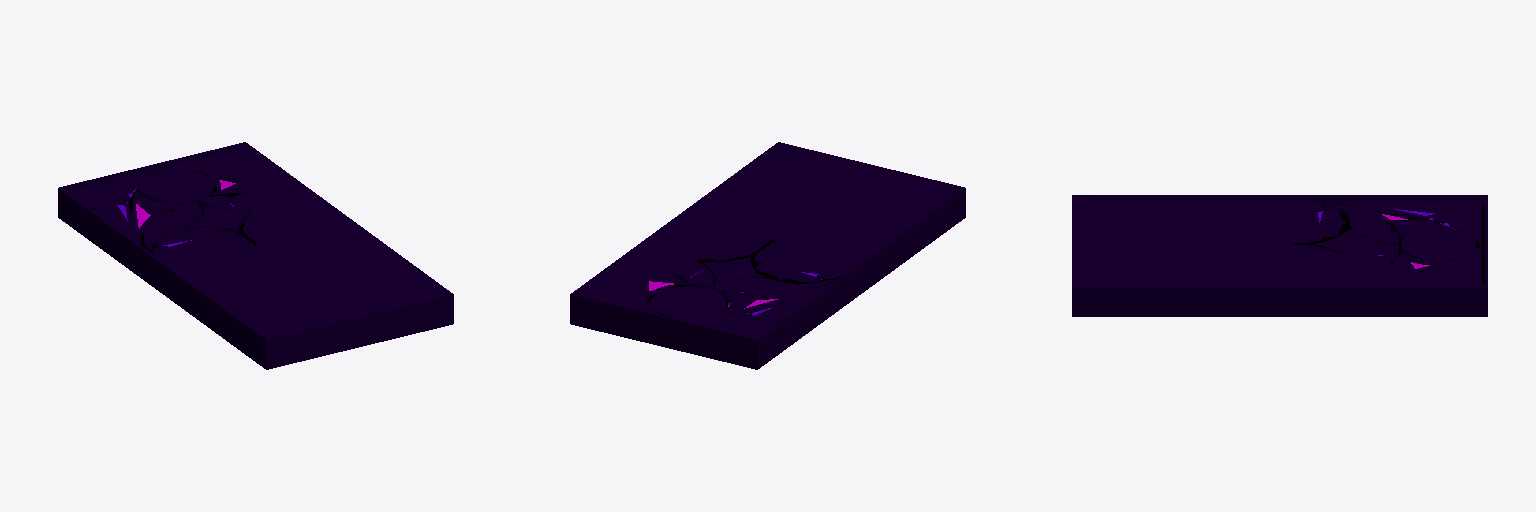
Rendered from gothicwindow.obj.
3 views of the same model, side by side, from view 1: azimuth 30°, elevation 25°; view 2: azimuth 150°, elevation 25°; view 3: azimuth 270°, elevation 25° (orthographic).
Visible parts, largest first — view 1: Curve.007_CUCurve.007; view 2: Curve.007_CUCurve.007; view 3: Curve.007_CUCurve.007.
Part boxes in pixels (bbox=[...]): Curve.007_CUCurve.007: bbox=[58, 142, 453, 369]; Curve.007_CUCurve.007: bbox=[570, 142, 965, 369]; Curve.007_CUCurve.007: bbox=[1072, 195, 1487, 316].
Size of the model in its own units: 1.32 by 0.2 by 2.54.